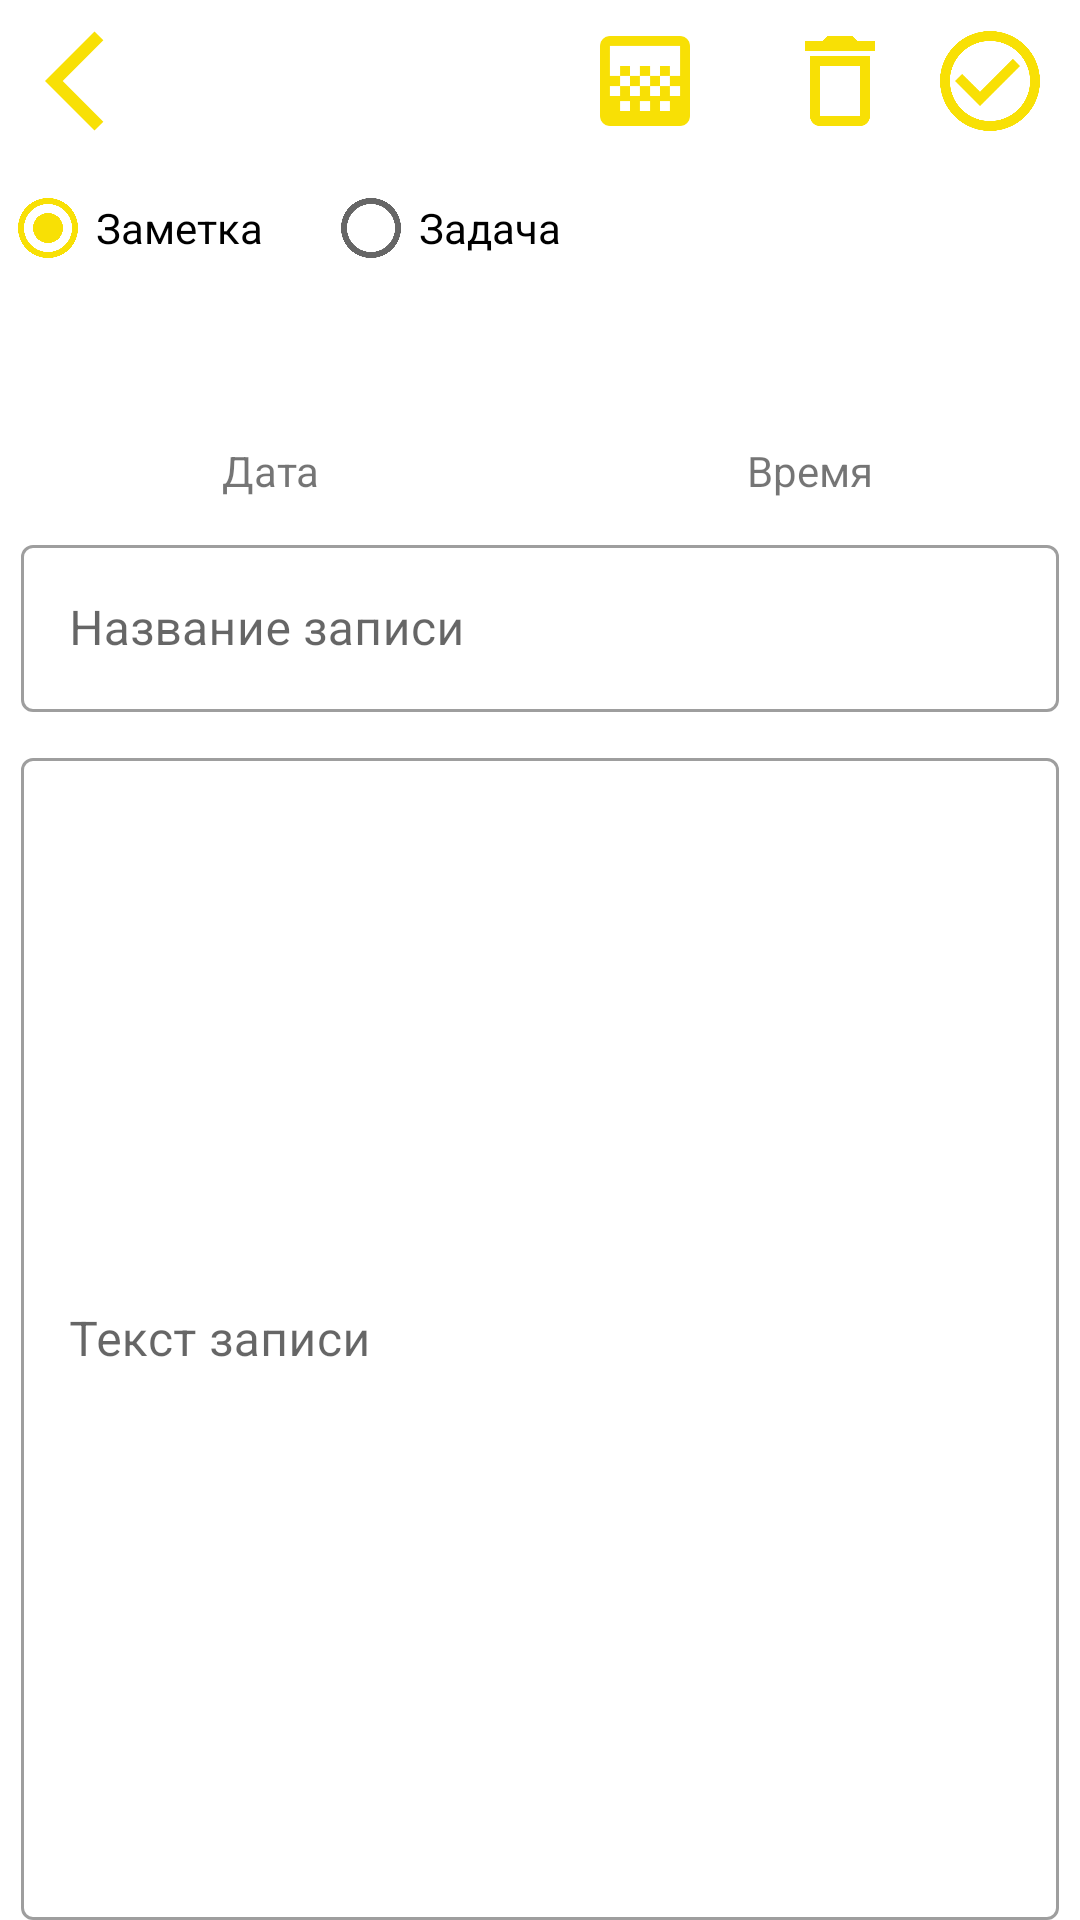

Icon bounding boxes for this 1080x1920 phone screenshot, format (x1, y1, x2, y2):
back: (45, 31, 104, 131)
delete: (805, 36, 875, 126)
